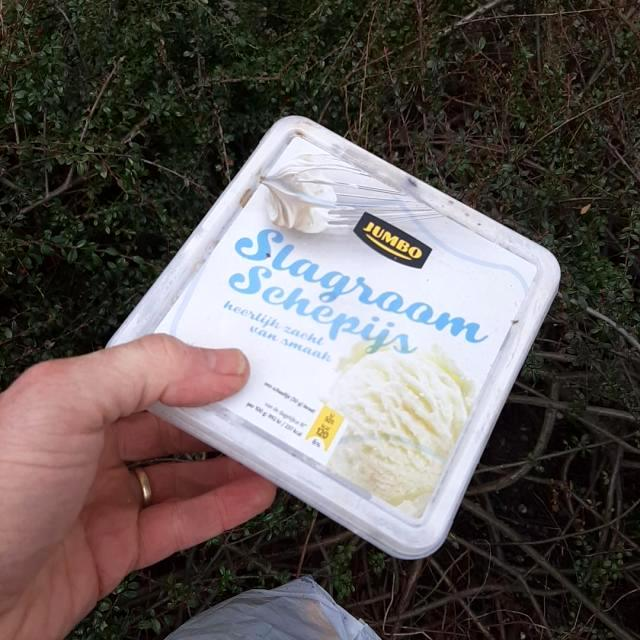Paper: (101, 110, 563, 562)
